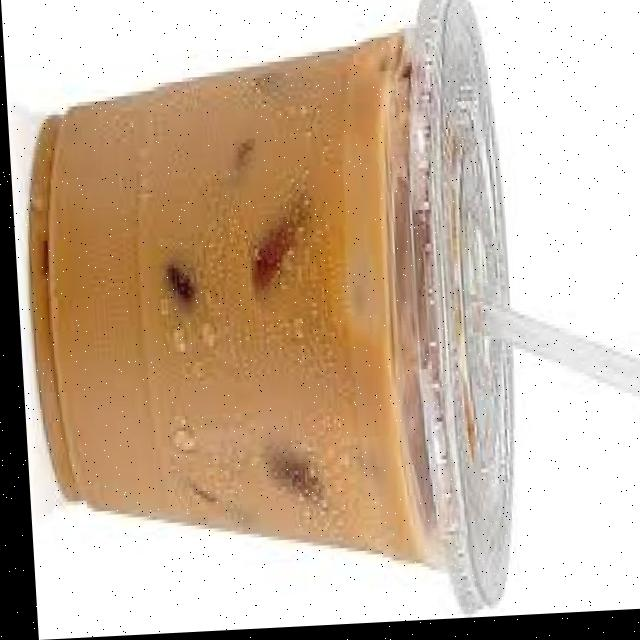cup: (26, 0, 507, 617)
